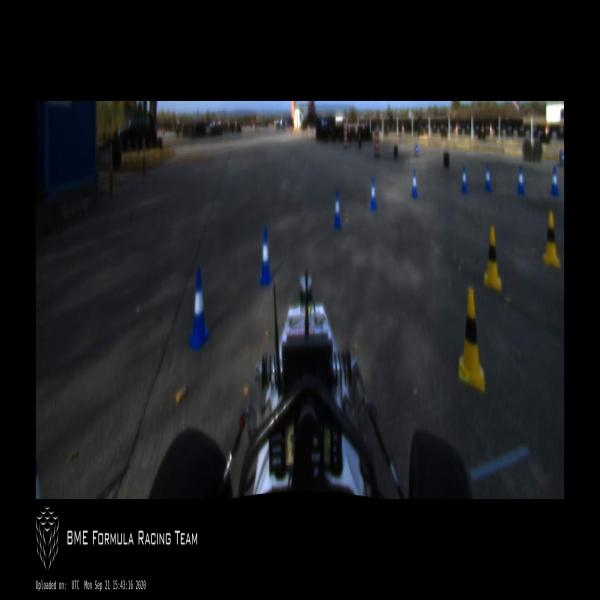blue_cone: (188, 269, 210, 350), (258, 228, 272, 285), (334, 190, 342, 228), (370, 177, 377, 210), (484, 164, 492, 192), (517, 165, 525, 193), (550, 167, 558, 194), (461, 165, 468, 193), (412, 170, 418, 198)
yellow_cone: (458, 287, 485, 392), (484, 226, 502, 290), (543, 211, 560, 267)
